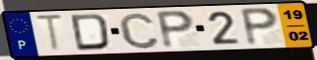2: (206, 10, 243, 46)
C: (116, 11, 162, 50)
D: (69, 12, 112, 52)
P: (154, 9, 197, 50), (238, 6, 281, 47)
T: (33, 14, 67, 54)
